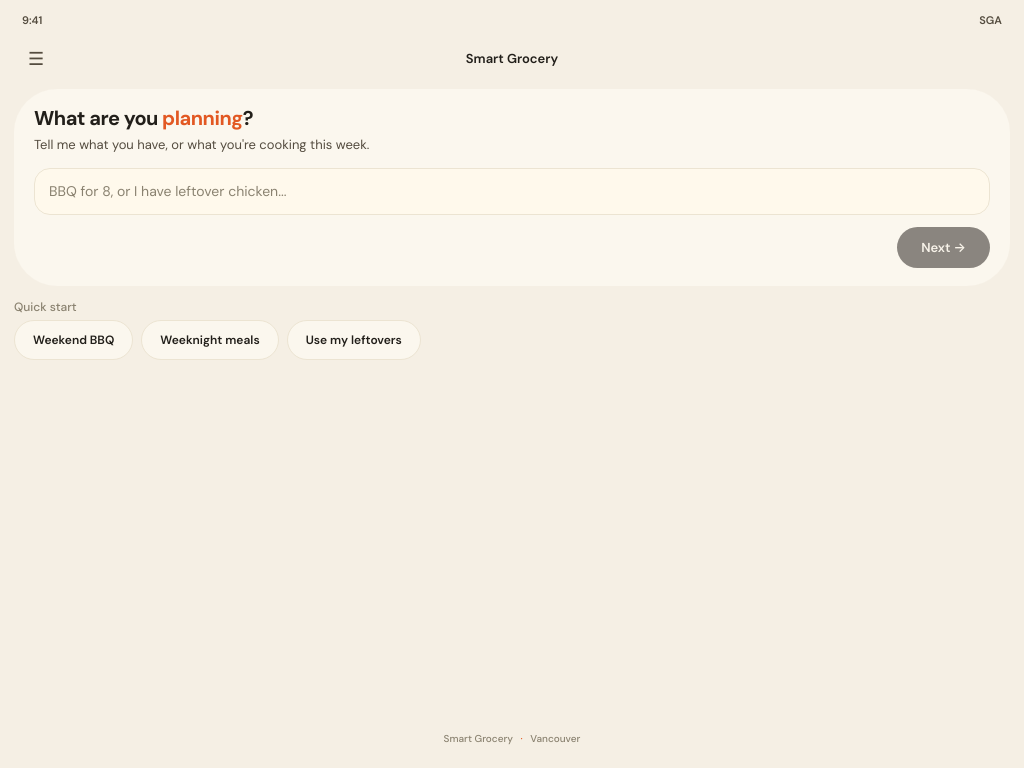
Test: HomeScreen — Next button gates on non-empty input › becomes enabled after clicking a Quick Start chip
The image size is (1024, 768).
Check: the button "Next →" is disabled, box [897,227,990,268]
What coordinates should you click on to do the following:
click the button "Weeknight meals"
I would click on:
 (210, 340)
Its box is [141,320,279,360].
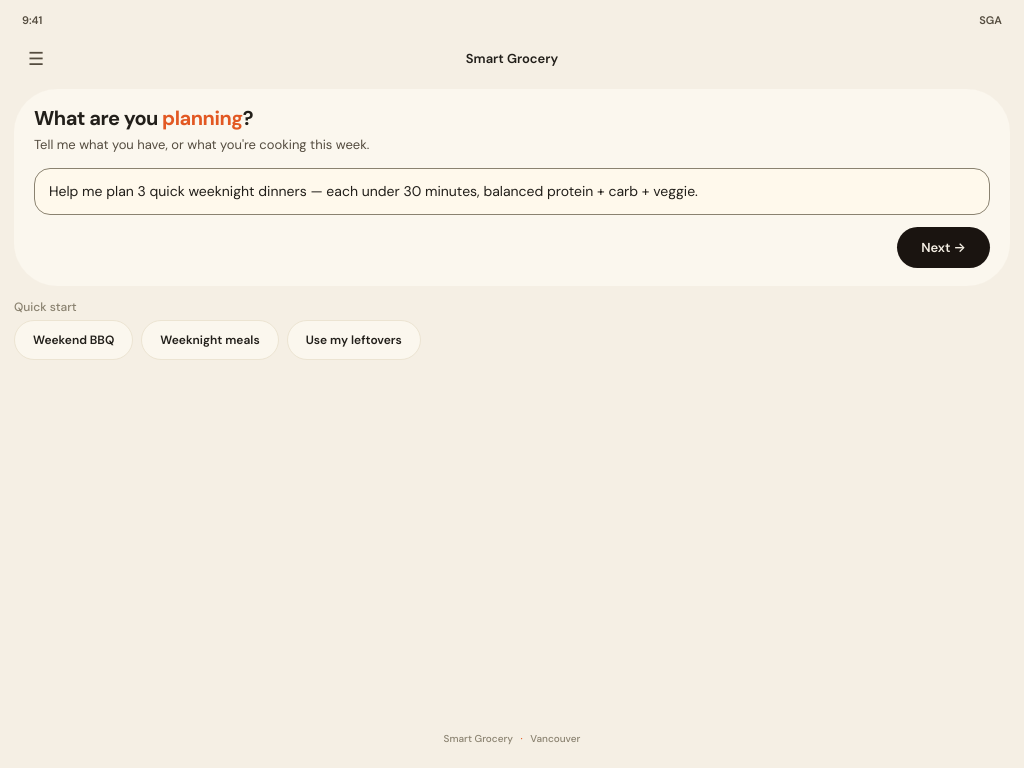
Check: the button "Next →" is enabled, box [897,227,990,268]
